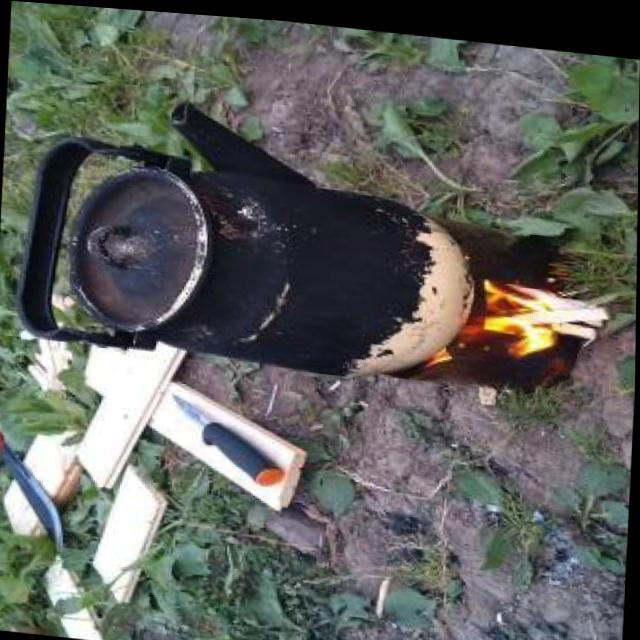fire: (432, 254, 596, 360)
